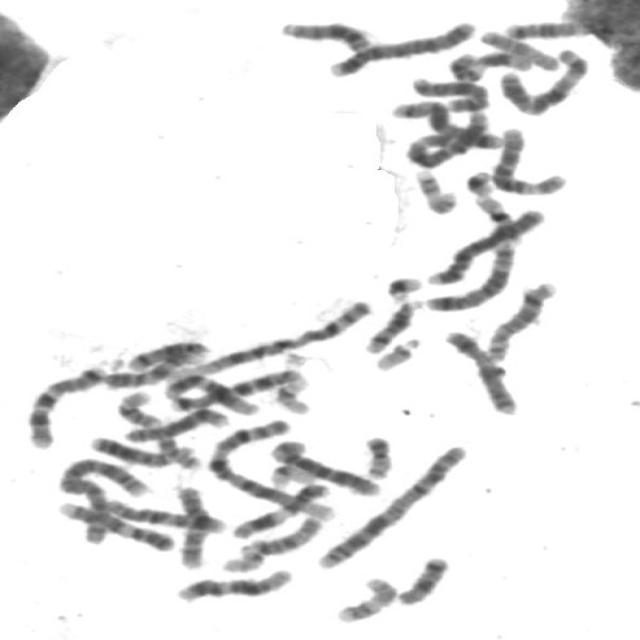A1: (154, 292, 378, 408), (202, 412, 342, 522)
A2: (312, 438, 475, 570), (53, 452, 156, 548)
A3: (492, 41, 595, 117), (398, 106, 496, 169)
B4: (420, 201, 550, 287), (323, 14, 482, 78)
B5: (426, 230, 520, 318), (386, 94, 506, 150)
C10: (92, 493, 232, 534), (170, 480, 212, 571)
C11: (226, 476, 335, 540), (442, 46, 538, 83)
C12: (168, 562, 298, 604), (162, 371, 262, 422)
C6: (265, 434, 385, 498), (487, 120, 572, 196)
C7: (21, 358, 114, 450), (161, 363, 309, 413)
C8: (479, 275, 563, 363), (120, 402, 232, 444)
C9: (52, 494, 180, 553), (100, 334, 213, 390)
D13: (84, 429, 194, 469), (274, 14, 378, 54)
D14: (359, 292, 428, 354), (122, 335, 214, 372)
D15: (236, 509, 328, 557), (474, 23, 563, 71)
E16: (466, 191, 526, 246), (112, 386, 165, 429)
E17: (330, 570, 402, 624), (409, 163, 462, 216)
E18: (392, 550, 456, 607), (495, 17, 602, 42)
F19: (269, 372, 315, 415), (262, 456, 320, 488)
F20: (357, 429, 399, 480), (152, 433, 206, 472)
G21: (379, 269, 427, 303), (460, 164, 500, 196)
G22: (368, 331, 426, 372), (216, 542, 270, 573)
X: (439, 323, 523, 416), (405, 72, 495, 114)
